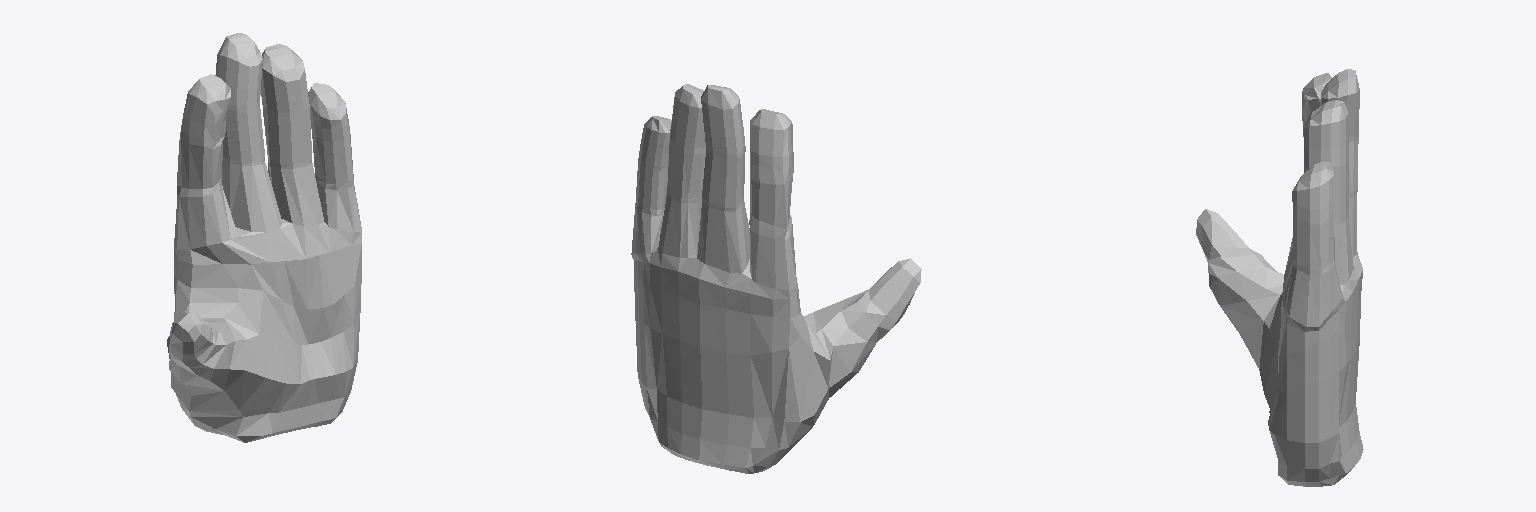
Rendered from mao_estendida_com_polegar.obj.
3 renders of one model, left to right at view 1: azimuth 30°, elevation 25°; view 2: azimuth 150°, elevation 25°; view 3: azimuth 270°, elevation 25°, orthographic.
Parts seen in each view (by area): view 1: objBox02; view 2: objBox02; view 3: objBox02.
Boxes of the visible parts, box(x1,y1,x2,y2) form: objBox02: box(167, 33, 361, 442); objBox02: box(631, 84, 921, 473); objBox02: box(1196, 69, 1363, 486).
Size of the model in its own units: 160 by 246 by 98.09.